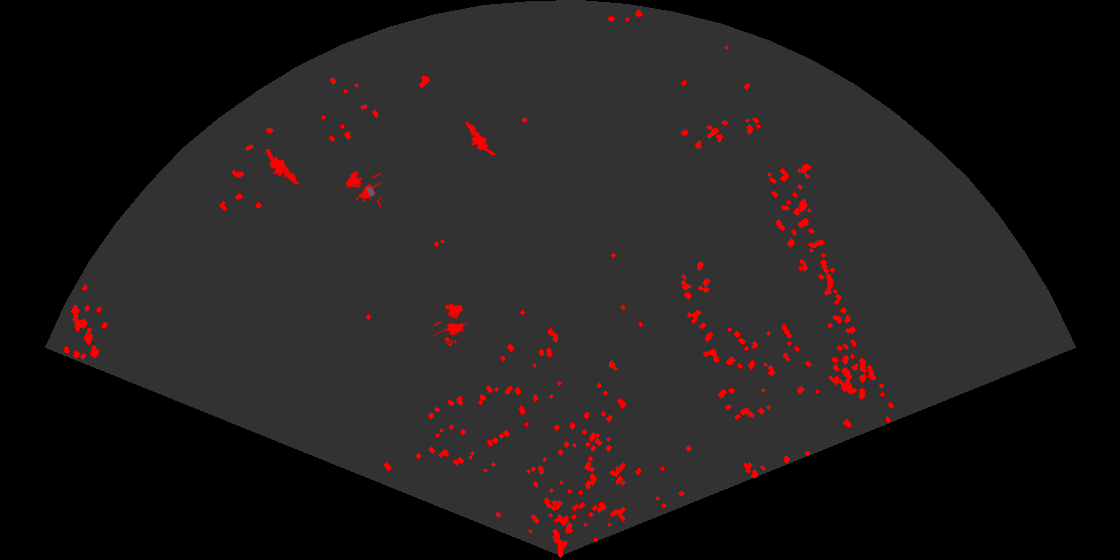cage: (344, 169, 381, 210), (433, 302, 469, 344)
frogman: (263, 149, 301, 192), (458, 118, 495, 155)
